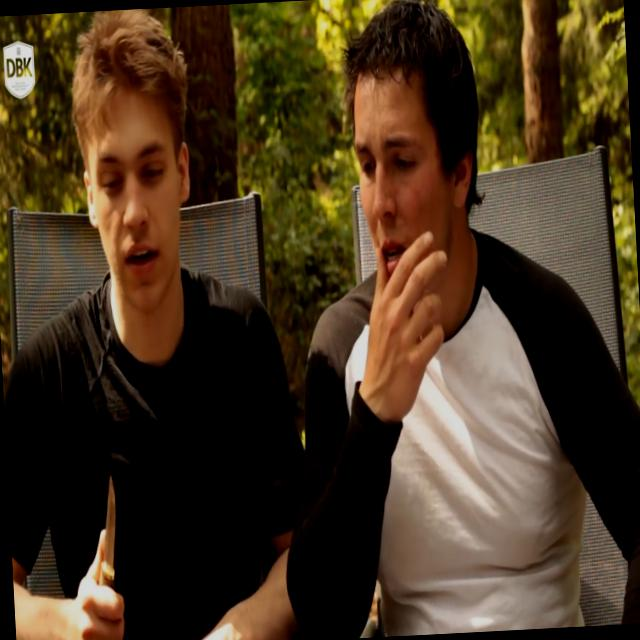knife: (66, 455, 142, 639)
